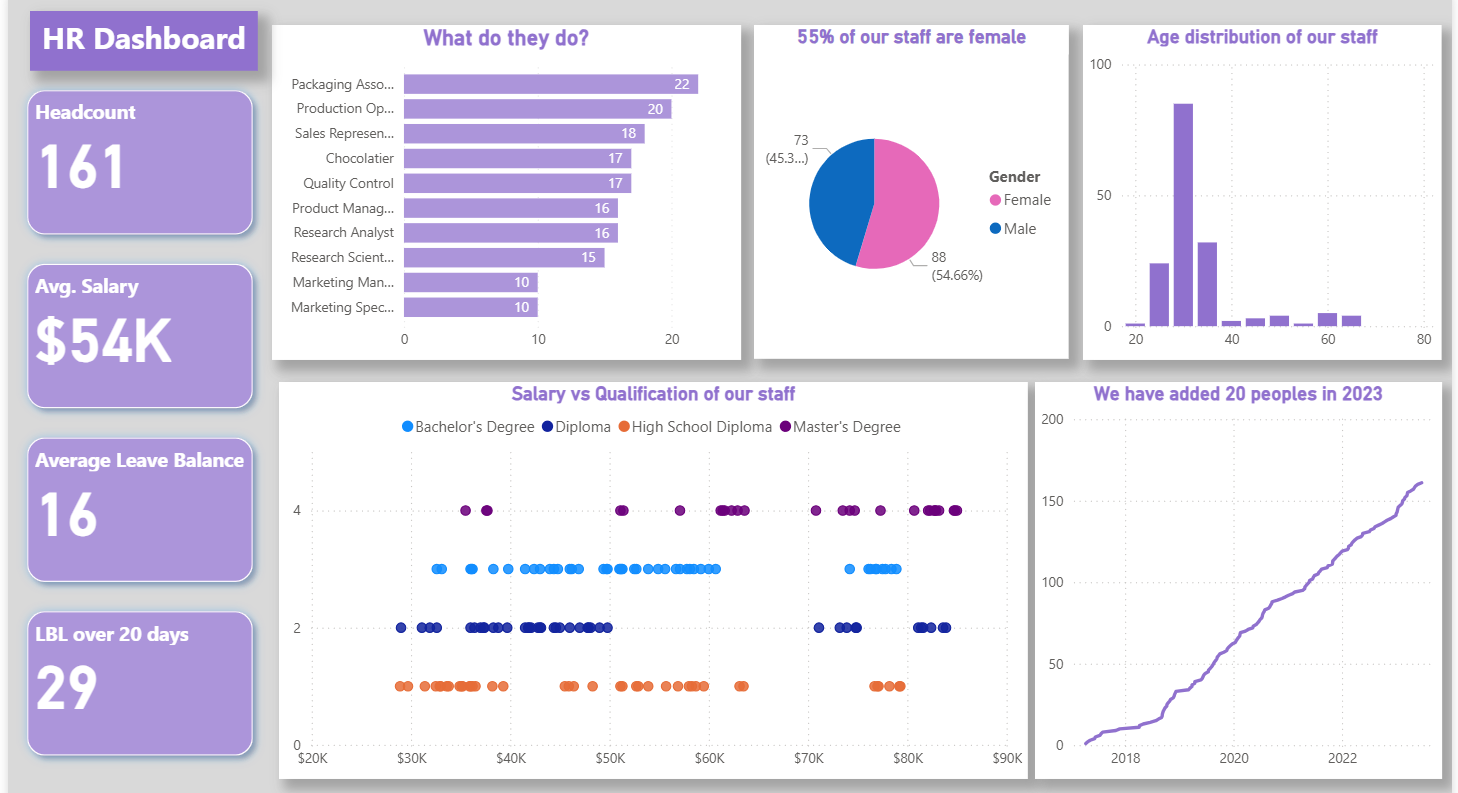

Layout of this report page (visuals, bound fields, positions):
{"tool":"powerbi","page":{"name":"Page 11","canvas":[1280,720],"ordinal":10},"visuals":[{"type":"cardVisual","fields":{"Data":["Staff.Headcount","Staff.Avg. Salary","Staff.Average Leave Balance","Staff.LBL over 20 days"]},"box":[0,68.3,234.1,627.8],"z":0},{"type":"clusteredBarChart","title":"What do they do?","fields":{"Category":["Staff.Job Title"],"Y":["Staff.Headcount"]},"box":[234.1,27.5,415.9,297],"z":1000},{"type":"pieChart","title":"55% of our staff are female","fields":{"Category":["Staff.Gender"],"Y":["Staff.Headcount"]},"box":[661.5,27.5,279.3,296.2],"z":2000},{"type":"columnChart","title":"Age distribution of our staff","fields":{"Category":["Staff.Age (bins)"],"Y":["Staff.Headcount"]},"box":[953.2,27.5,318.3,297],"z":2001},{"type":"scatterChart","title":"Salary vs Qualification of our staff","fields":{"Series":["Education Qualification.Qualification"],"X":["Staff.Salary"],"Y":["Education Qualification.Qualification ID"]},"box":[240.3,344,664.1,352],"z":2002},{"type":"lineChart","title":"We have added 20 peoples in 2023","fields":{"Y":["Staff.Cumulative Headcount"],"Category":["Staff.Date of Join"]},"box":[910.6,344,360.9,352],"z":2003},{"type":"textbox","box":[19.5,15.1,202.2,53.2],"z":2004}]}

Visuals, with their boxes on the page's 1280x720 design canvas (x1, y1, x2, y2). These are canvas units, not pixel positions in the 1458x793 screenshot, which may show the page scaled, cropped or inside an application window:
cardVisual - Staff.Headcount x Staff.Avg. Salary: pyautogui.locateOnScreen(0, 68, 234, 696)
"What do they do?" clusteredBarChart: pyautogui.locateOnScreen(234, 28, 650, 324)
"55% of our staff are female" pieChart: pyautogui.locateOnScreen(662, 28, 941, 324)
"Age distribution of our staff" columnChart: pyautogui.locateOnScreen(953, 28, 1272, 324)
"Salary vs Qualification of our staff" scatterChart: pyautogui.locateOnScreen(240, 344, 904, 696)
"We have added 20 peoples in 2023" lineChart: pyautogui.locateOnScreen(911, 344, 1272, 696)
textbox: pyautogui.locateOnScreen(20, 15, 222, 68)
